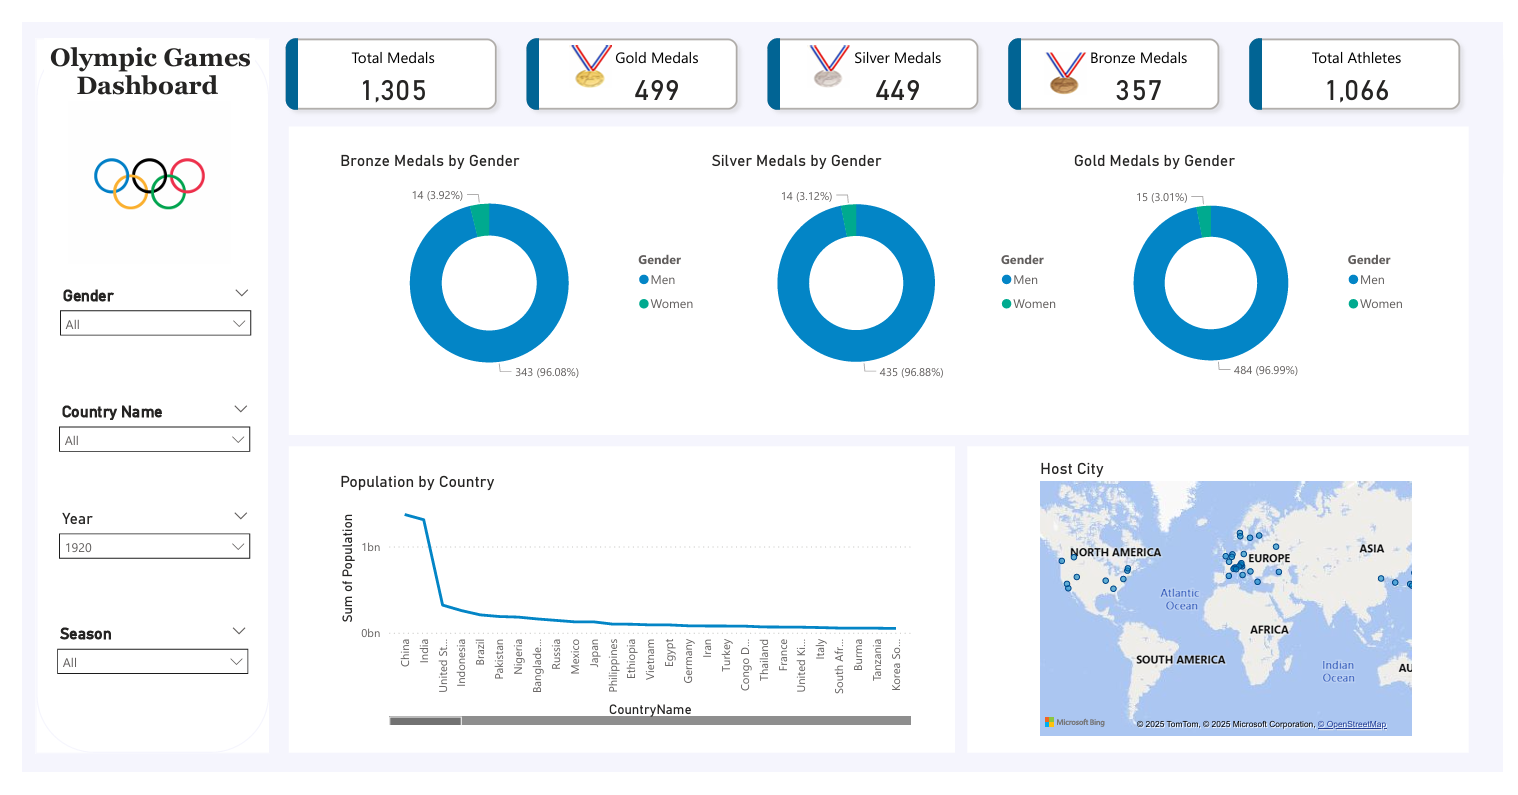

Layout of this report page (visuals, bound fields, positions):
{"tool":"powerbi","page":{"name":"Sub Page","canvas":[1580,800],"ordinal":1},"visuals":[{"type":"shape","box":[14.3,17.1,250,762.9],"z":0},{"type":"shape","box":[1007.1,451.4,537.1,328.6],"z":1000},{"type":"shape","box":[282.9,451.4,712.9,328.6],"z":2000},{"type":"shape","box":[282.9,110,1261.4,331.4],"z":3000},{"type":"cardVisual","fields":{"Data":["medal.Total Medals","medal.Gold Medals","medal.Silver Medals","medal.Bronze Medals","athlete.Total Athletes"]},"box":[264.3,0,1290,110],"z":4000},{"type":"slicer","fields":{"Values":["athlete.Gender"]},"box":[30,275.7,224.3,102.9],"z":5000},{"type":"slicer","fields":{"Values":["country.CountryName"]},"box":[28.6,400,224.3,102.9],"z":6000},{"type":"slicer","fields":{"Values":["result.Year"]},"box":[28.6,514.3,224.3,102.9],"z":7000},{"type":"slicer","fields":{"Values":["sport.Season"]},"box":[27.1,637.1,224.3,102.9],"z":8000},{"type":"textbox","box":[24,17.1,224.6,132],"z":9000},{"type":"image","box":[44.3,74.3,182.9,191.4],"z":10000},{"type":"donutChart","fields":{"Category":["athlete.Gender"],"Y":["medal.Bronze Medals"]},"box":[334.3,137.1,395.7,262.9],"z":11000},{"type":"donutChart","fields":{"Category":["athlete.Gender"],"Y":["medal.Silver Medals"]},"box":[730,137.1,387.1,262.9],"z":12000},{"type":"donutChart","fields":{"Category":["athlete.Gender"],"Y":["medal.Gold Medals"]},"box":[1117.1,137.1,370,262.9],"z":13000},{"type":"lineChart","title":"Population by Country","fields":{"Y":["Sum(country.Population)"],"Category":["country.CountryName"]},"box":[334.3,480,618.6,274.3],"z":14000},{"type":"map","title":"Host City","fields":{"Category":["city.CityName"]},"box":[1081.4,465.7,405.7,300],"z":15000}]}

Visuals, with their boxes on the page's 1580x800 design canvas (x1, y1, x2, y2). These are canvas units, not pixel positions in the 1518x795 screenshot, which may show the page scaled, cropped or inside an application window:
shape: 14,17,264,780
shape: 1007,451,1544,780
shape: 283,451,996,780
shape: 283,110,1544,441
cardVisual - medal.Total Medals x medal.Gold Medals: 264,0,1554,110
slicer - athlete.Gender: 30,276,254,379
slicer - country.CountryName: 29,400,253,503
slicer - result.Year: 29,514,253,617
slicer - sport.Season: 27,637,251,740
textbox: 24,17,249,149
image: 44,74,227,266
donutChart - athlete.Gender x medal.Bronze Medals: 334,137,730,400
donutChart - athlete.Gender x medal.Silver Medals: 730,137,1117,400
donutChart - athlete.Gender x medal.Gold Medals: 1117,137,1487,400
"Population by Country" lineChart: 334,480,953,754
"Host City" map: 1081,466,1487,766
